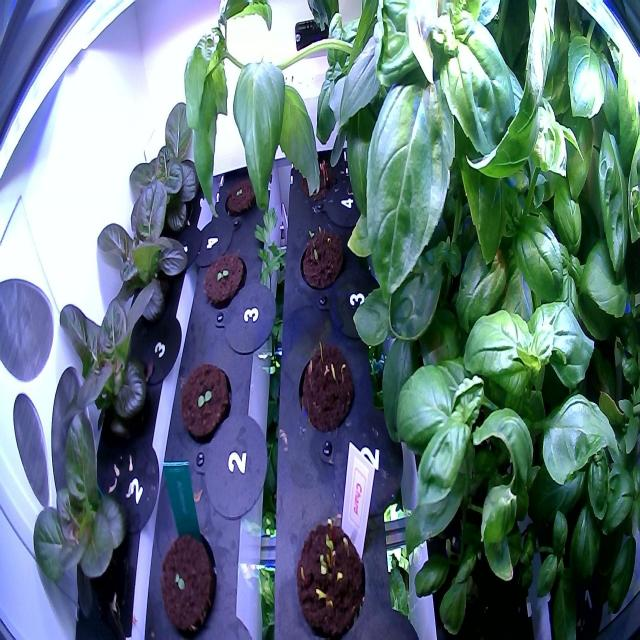germination: (290, 513, 370, 636), (157, 524, 220, 638), (295, 332, 359, 438), (178, 354, 234, 446), (296, 222, 348, 294), (200, 247, 249, 314), (221, 167, 262, 224)
young: (21, 398, 138, 614), (50, 248, 168, 456), (86, 168, 196, 334), (127, 88, 204, 244)
